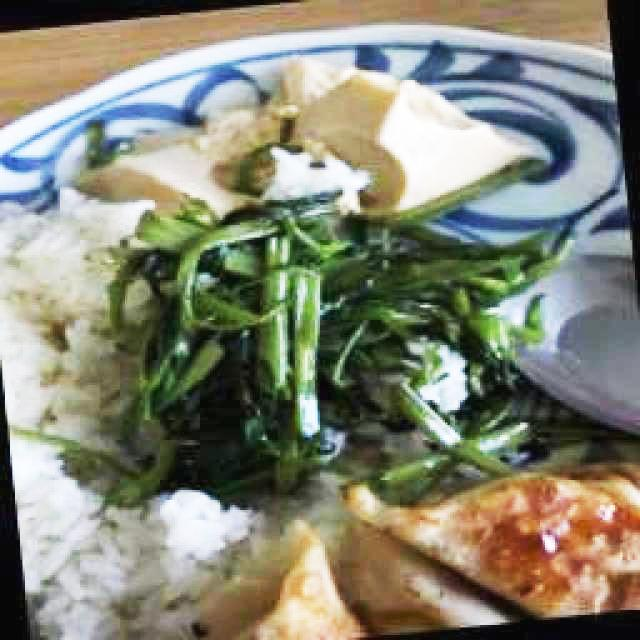fried_dumplings: (343, 477, 640, 625)
rice: (16, 416, 249, 640), (3, 202, 125, 402)
water_spinach: (106, 192, 546, 476)
